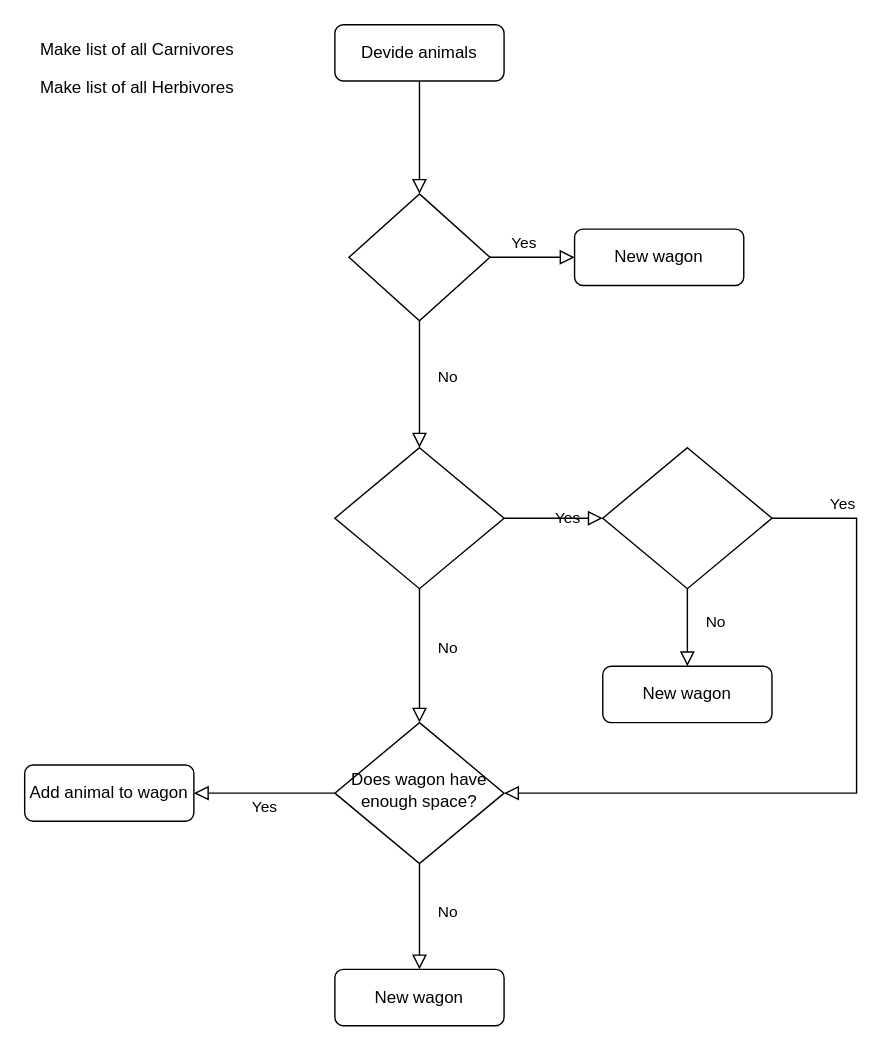
This 895x1050 diagram has some shape labels left out. The shapes that lost their labels are listed below. From the top down, each one's box as (x1, y1, x2, y2) in pixels, then its label:
(348, 192, 490, 321): Is animal carnivore?
(333, 446, 504, 589): Any Carnivores in wagon?
(601, 446, 772, 589): Animal bigger than carnivore?
